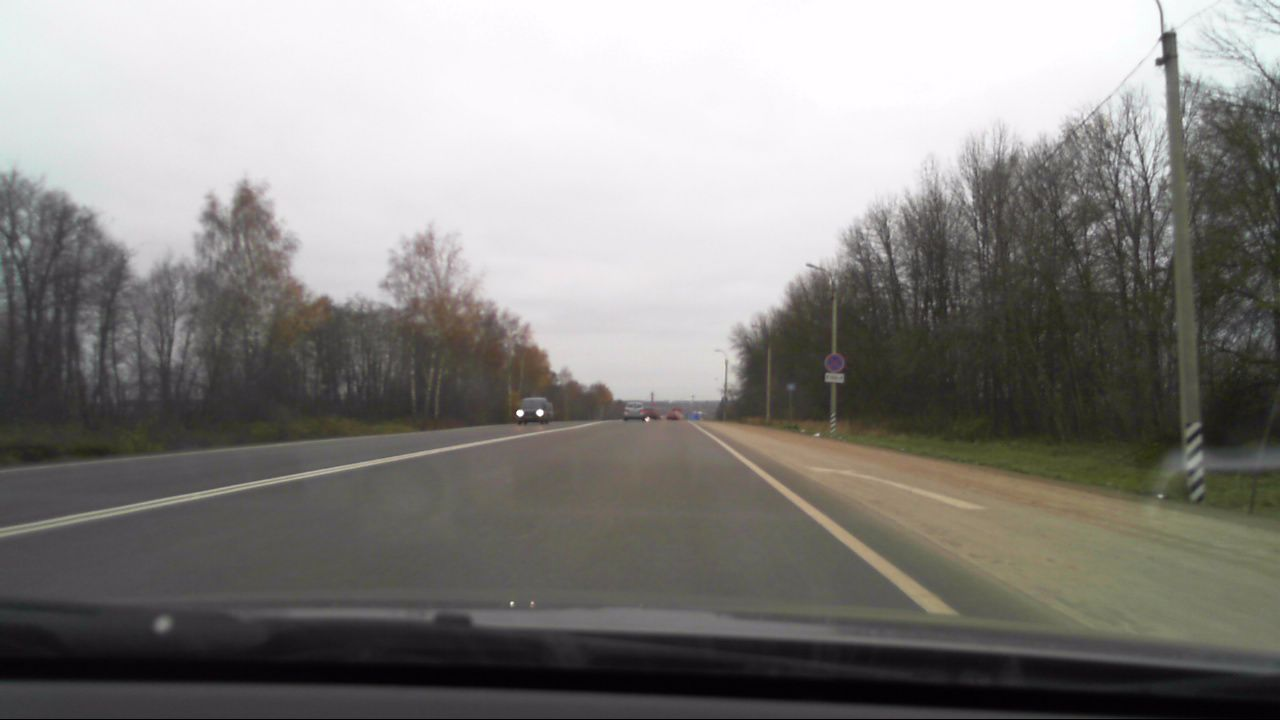No Parking: (823, 351, 845, 372)
